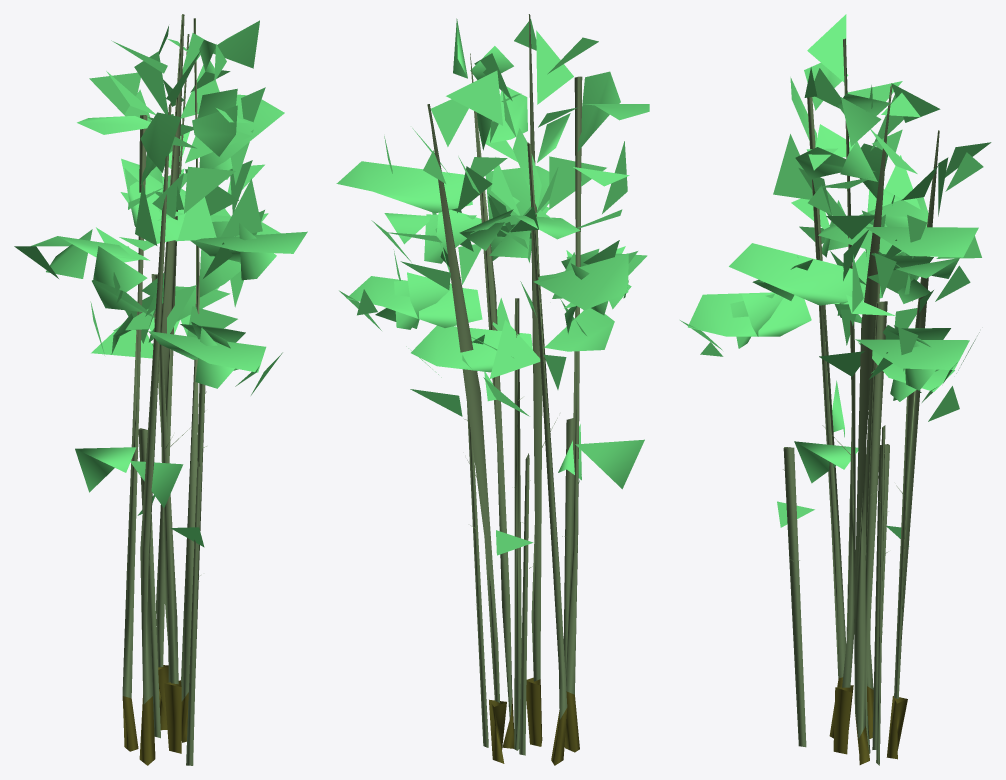
Rendered from Bamboo_Cluster2_LOD2.fbx.
The picture shows the model from 3 angles, left to right: view 1: azimuth 30°, elevation 25°; view 2: azimuth 150°, elevation 25°; view 3: azimuth 270°, elevation 25°; orthographic projection. The views are drawn at different scales.
Parts seen in each view (by area): view 1: Bamboo_Cluster2_LOD2; view 2: Bamboo_Cluster2_LOD2; view 3: Bamboo_Cluster2_LOD2.
Part boxes in pixels (x1=…): Bamboo_Cluster2_LOD2: x1=14, y1=14, x2=307, y2=765; Bamboo_Cluster2_LOD2: x1=336, y1=14, x2=649, y2=765; Bamboo_Cluster2_LOD2: x1=680, y1=14, x2=991, y2=765.
Bounding box in the file's own units: 939 × 2426 × 961.
